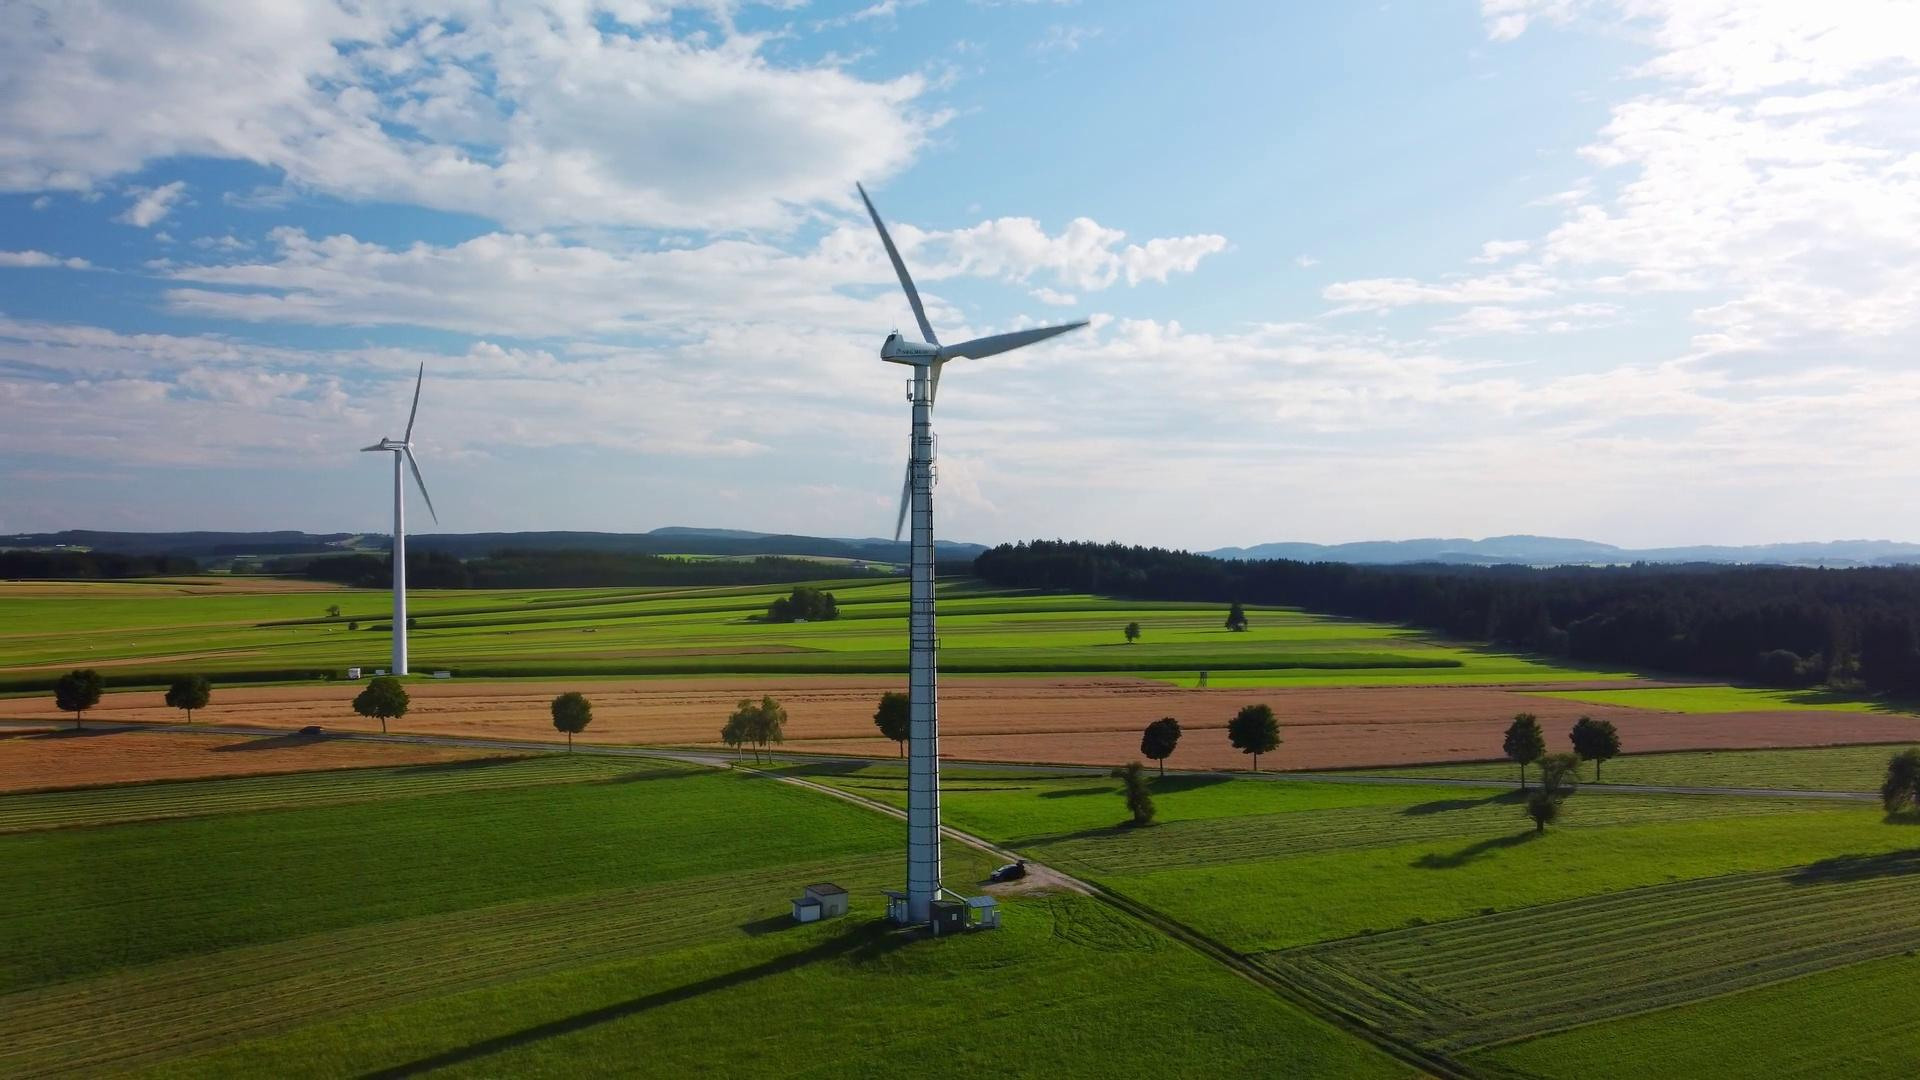turbine: (789, 117, 1097, 952), (335, 352, 473, 691)
